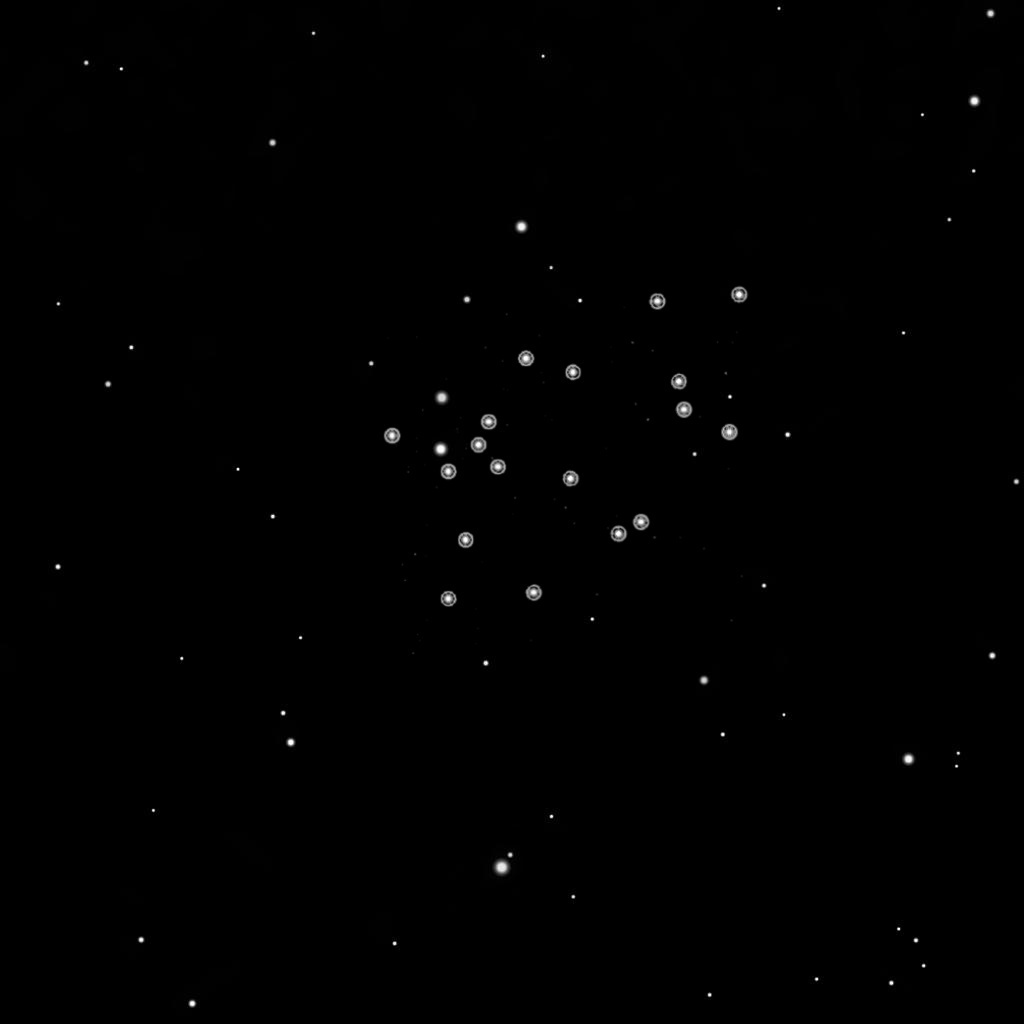canis_major: (435, 346, 589, 486)
